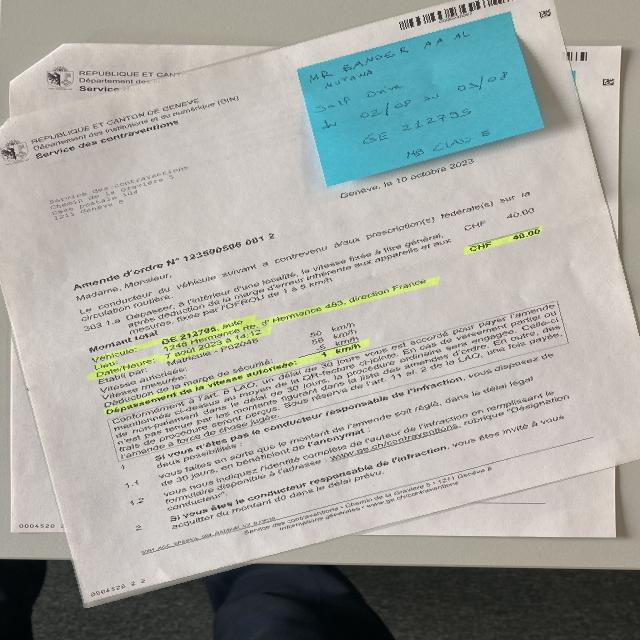paper-document-: (0, 0, 640, 604)
